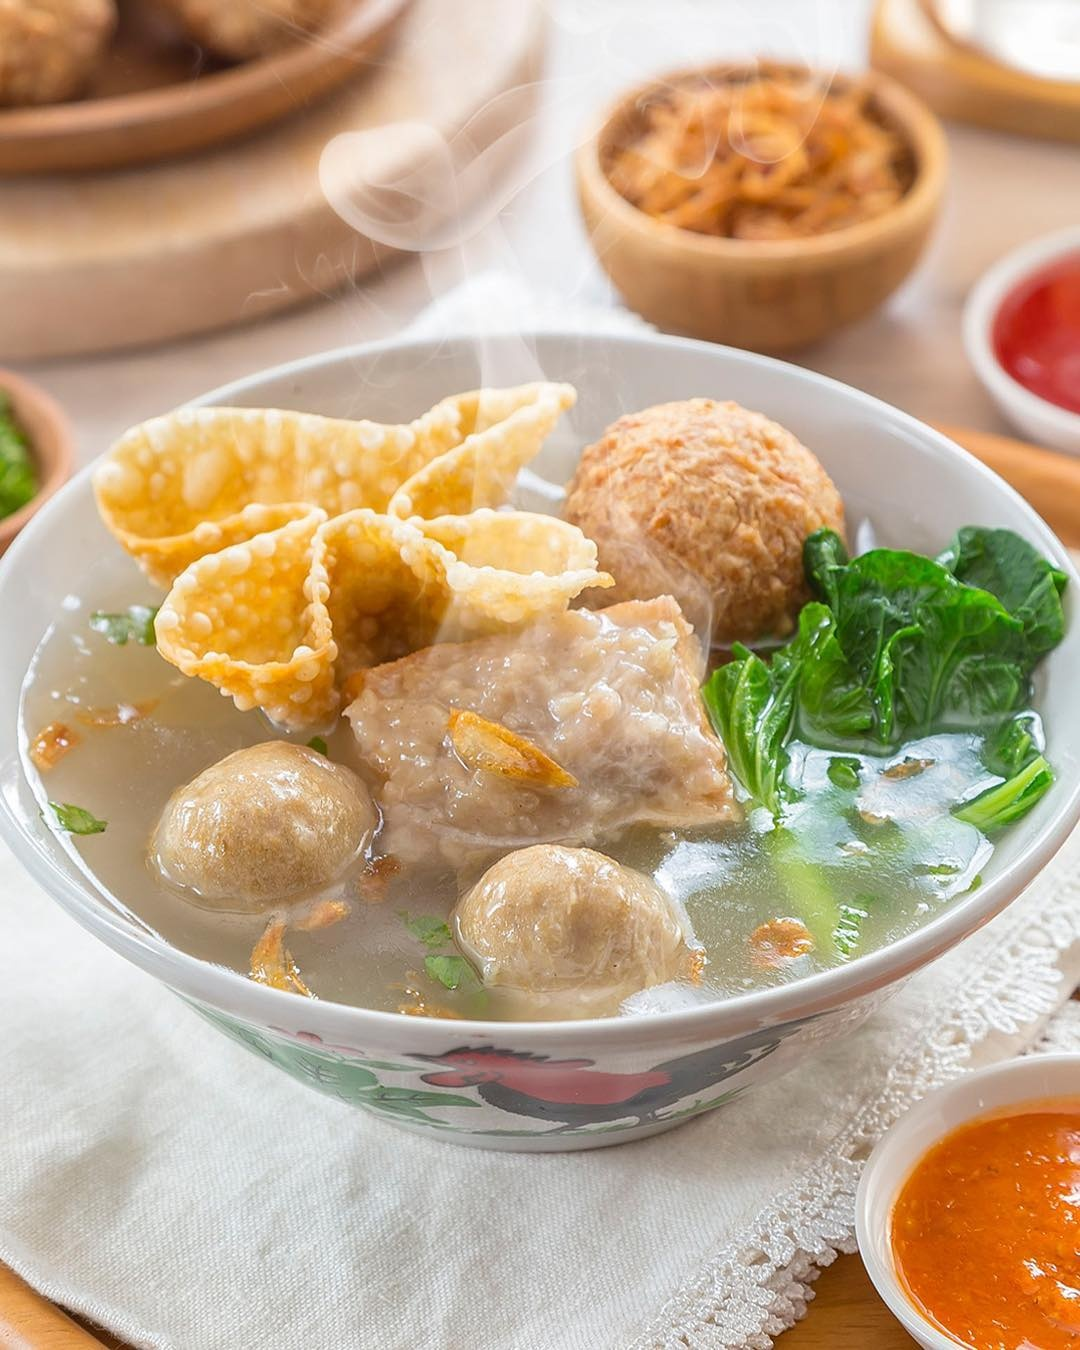bakso_malang: (91, 378, 1076, 1020)
